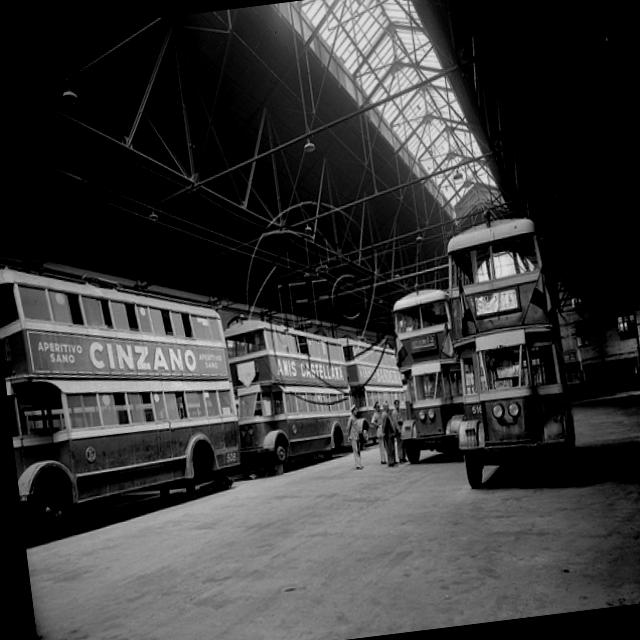Vehicle: (0, 241, 246, 536), (418, 208, 582, 494), (222, 302, 410, 472), (382, 284, 472, 468)
